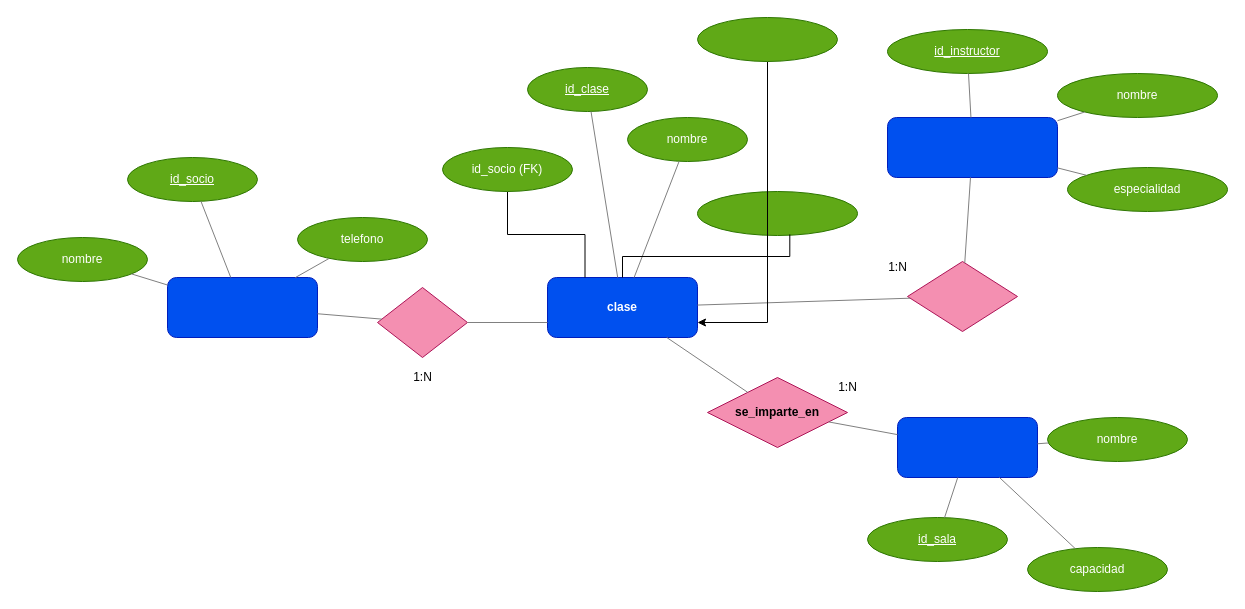
Some shapes in this 1245 by 609 pixel diagram are drawn without their labels. The centre of each missing label's shape, as x and y in pixels:
id_instructor(FK): pixel 777 213
id_sala(FK): pixel 767 39
imparte: pixel 962 296
instructor: pixel 972 147
rserva: pixel 422 322
sala: pixel 967 447
socio: pixel 242 307
